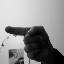g: (3, 24, 54, 60)
